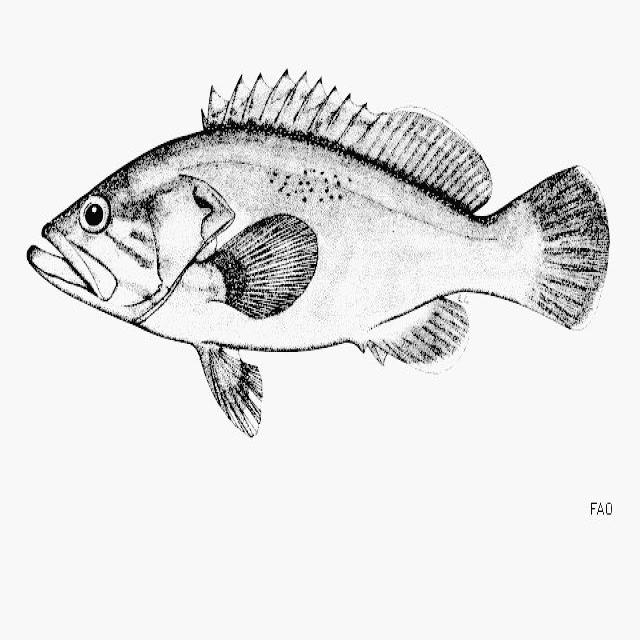ikan: (26, 65, 610, 438)
